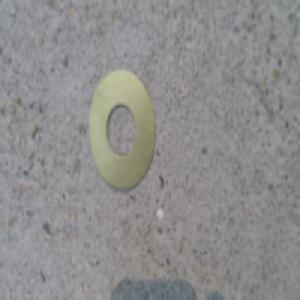Washer: (89, 66, 157, 195)
